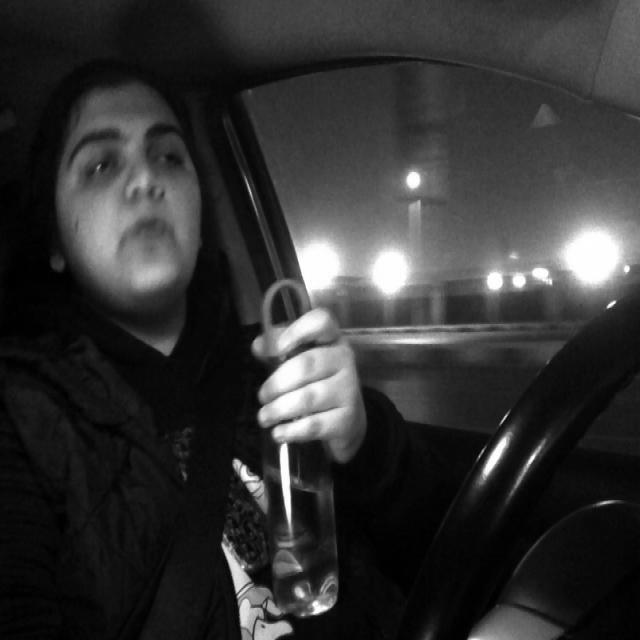Drinking: (263, 324, 343, 614)
